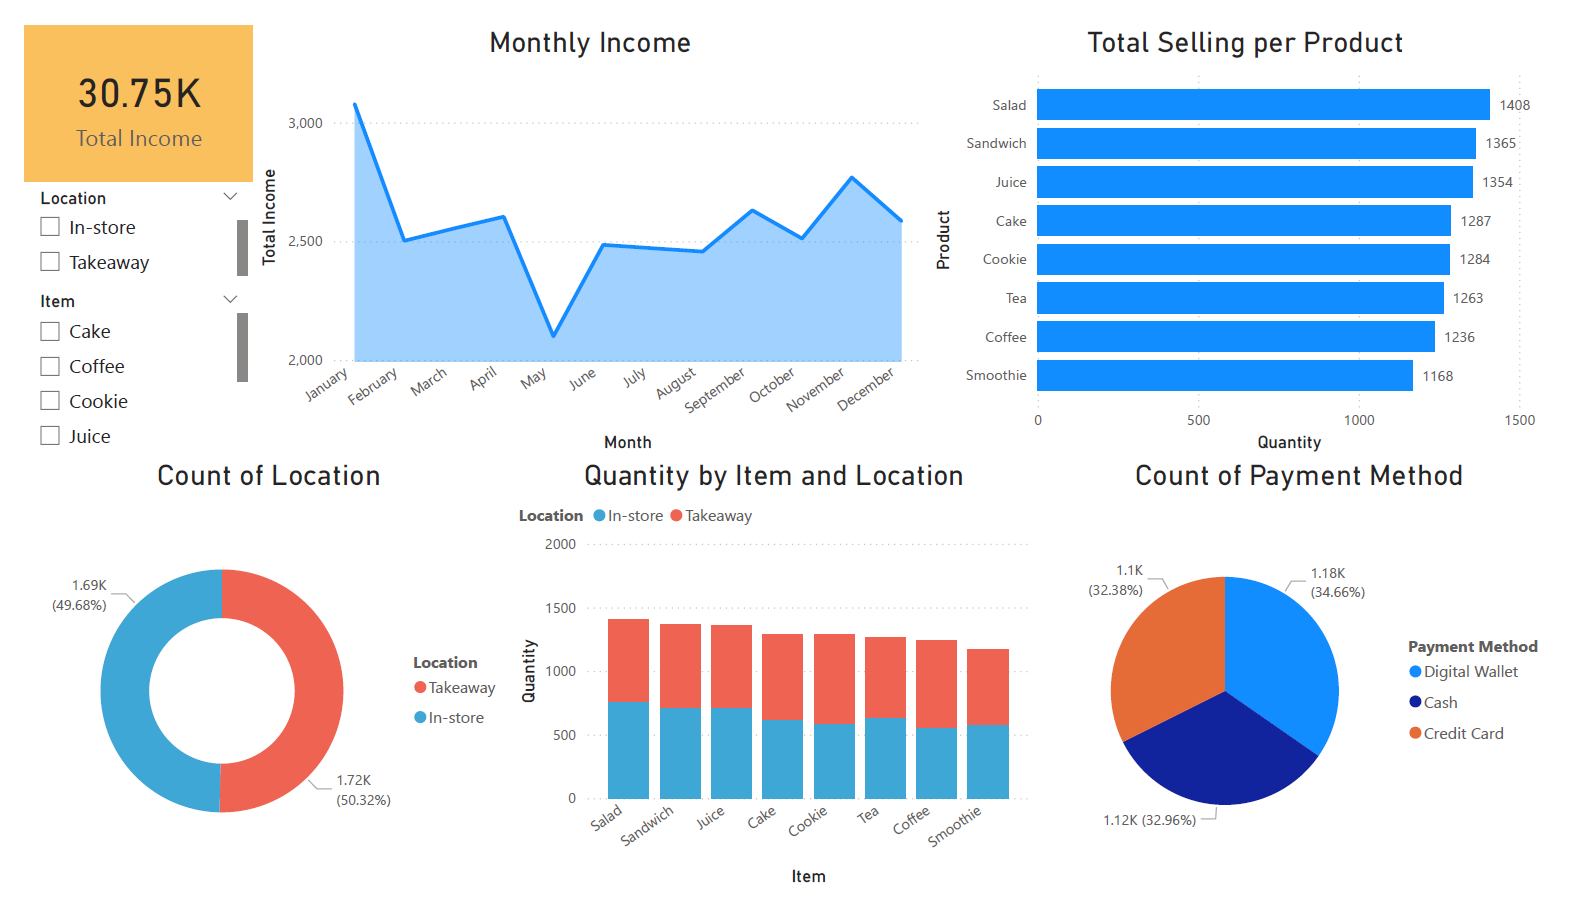

The page's visual inventory and layout, read from the dashboard file:
{"tool":"powerbi","page":{"name":"Dash","canvas":[1280,720],"ordinal":4},"visuals":[{"type":"card","title":"Monthly Income","fields":{"Values":["Sum(cleaned_data_price_filled.total_spent)"]},"box":[0,75.7,158.6,98.6],"z":0},{"type":"slicer","fields":{"Values":["cleaned_data_price_filled.location"]},"box":[0,174.3,158.6,105.7],"z":1000},{"type":"pieChart","title":"Count of Payment Method","fields":{"Category":["cleaned_data_price_filled.payment_method"],"Y":["CountNonNull(cleaned_data_price_filled.transaction_id)"]},"box":[841.4,360,438.6,360],"z":2000},{"type":"slicer","fields":{"Values":["cleaned_data_price_filled.item"]},"box":[0,280,158.6,80],"z":3000},{"type":"donutChart","title":"Count of Location","fields":{"Category":["cleaned_data_price_filled.location"],"Y":["CountNonNull(cleaned_data_price_filled.transaction_id)"]},"box":[0,360,391.4,360],"z":4000},{"type":"columnChart","fields":{"Category":["cleaned_data_price_filled.item"],"Series":["cleaned_data_price_filled.location"],"Y":["Sum(cleaned_data_price_filled.quantity)"]},"box":[391.4,360,450,360],"z":5000},{"type":"lineChart","title":"Monthly Income","fields":{"Category":["cleaned_data_price_filled.transaction_date.Variation.Date Hierarchy.Month"],"Y":["Sum(cleaned_data_price_filled.total_spent)"]},"box":[158.6,75.7,651.4,284.3],"z":6000},{"type":"barChart","title":"Total Selling per Product","fields":{"Category":["cleaned_data_price_filled.item"],"Y":["Sum(cleaned_data_price_filled.quantity)"]},"box":[810,0,470,360],"z":7000},{"type":"textbox","box":[0,0,810,75.7],"z":8003}]}

Visuals, with their boxes in screenshot pixels (x1, y1, x2, y2), scaled from the page's 1280x720 canvas onto the 1590x918 screenshot:
"Monthly Income" card: bbox=(0, 97, 197, 222)
slicer - cleaned_data_price_filled.location: bbox=(0, 222, 197, 357)
"Count of Payment Method" pieChart: bbox=(1045, 459, 1589, 917)
slicer - cleaned_data_price_filled.item: bbox=(0, 357, 197, 459)
"Count of Location" donutChart: bbox=(0, 459, 486, 917)
columnChart - cleaned_data_price_filled.item x cleaned_data_price_filled.location: bbox=(486, 459, 1045, 917)
"Monthly Income" lineChart: bbox=(197, 97, 1006, 459)
"Total Selling per Product" barChart: bbox=(1006, 0, 1589, 459)
textbox: bbox=(0, 0, 1006, 97)
